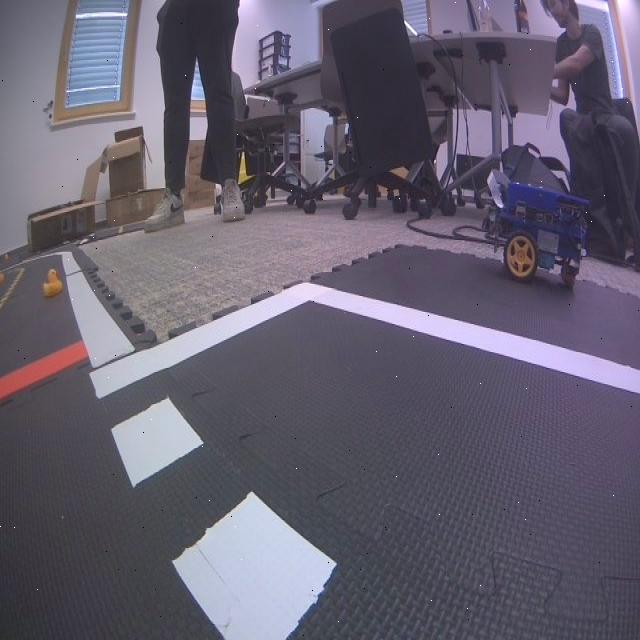bot: (484, 168, 592, 293)
duckie: (41, 268, 64, 299), (0, 267, 5, 286)
park: (91, 282, 639, 638)
